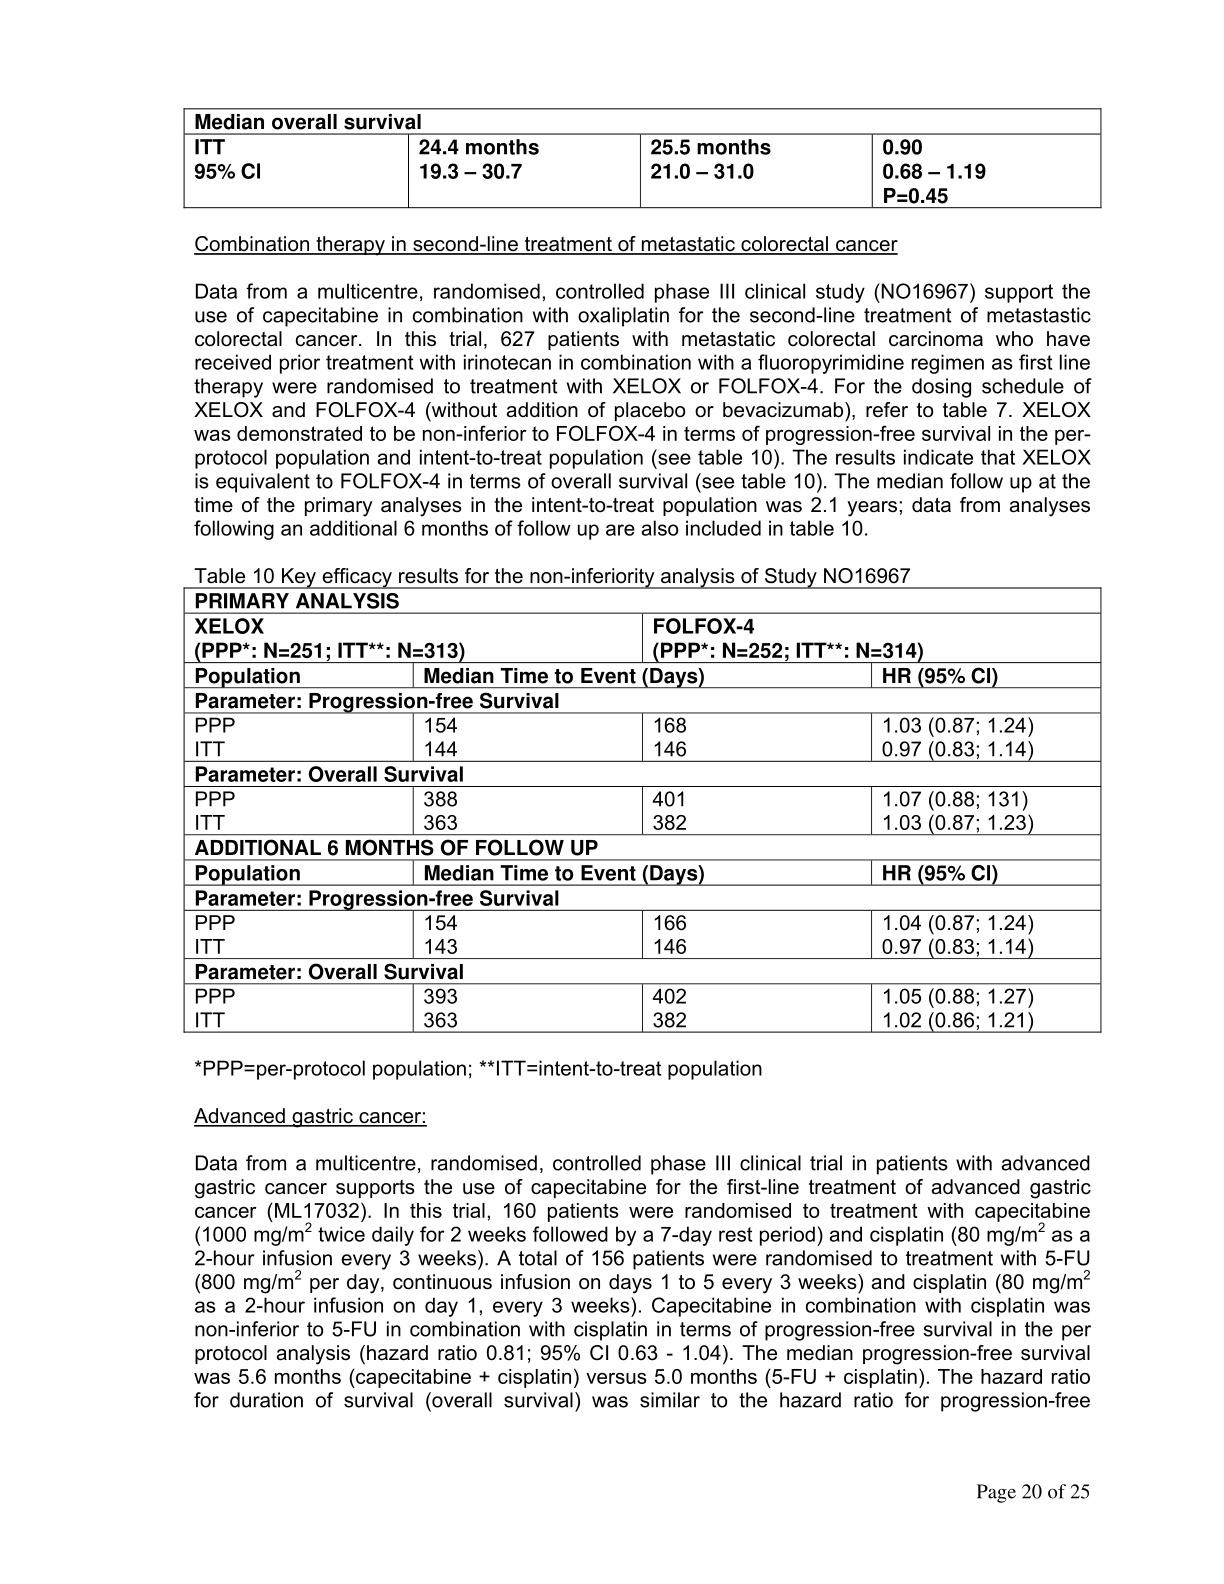merged_cells: (183, 588, 1101, 1034), (183, 108, 1102, 210)
